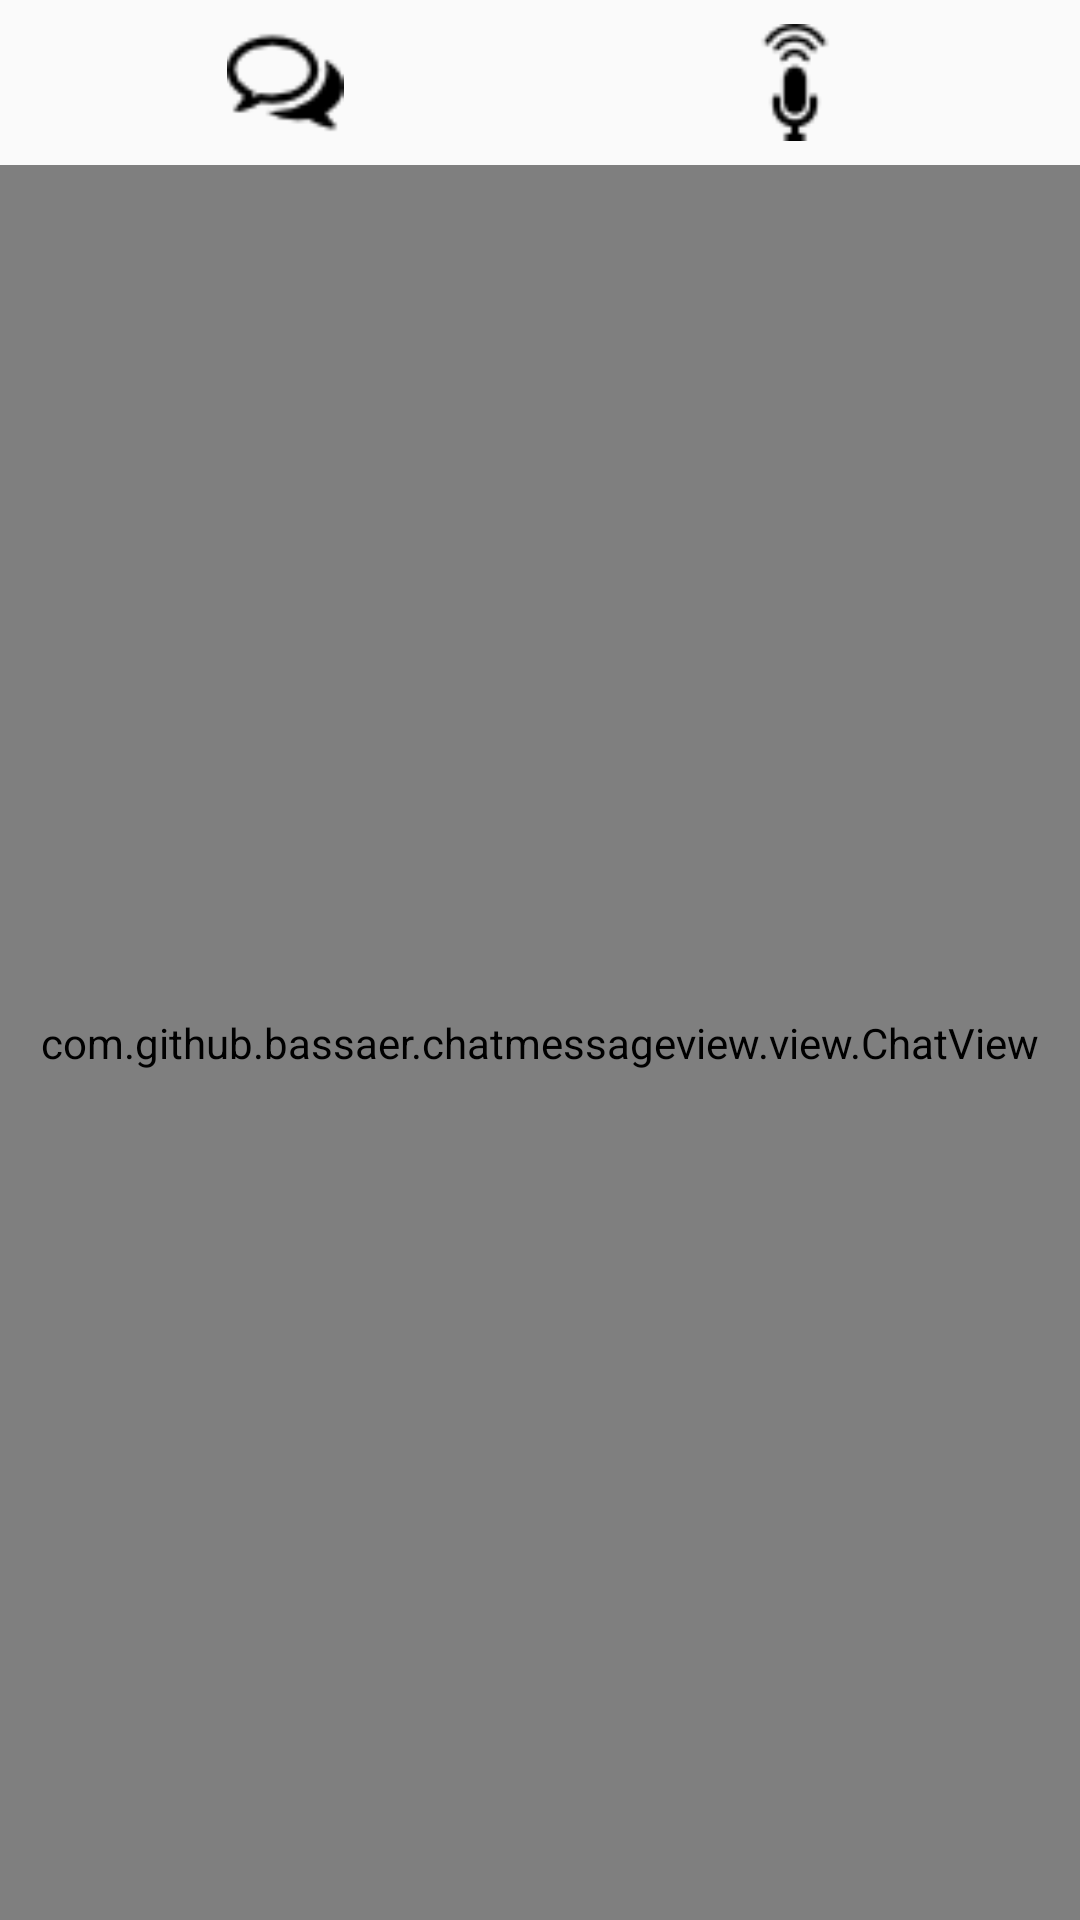

Icon click points for this 1080 × 1920 phone screenshot, format (x=x, y=y):
voice: (x=795, y=82)
